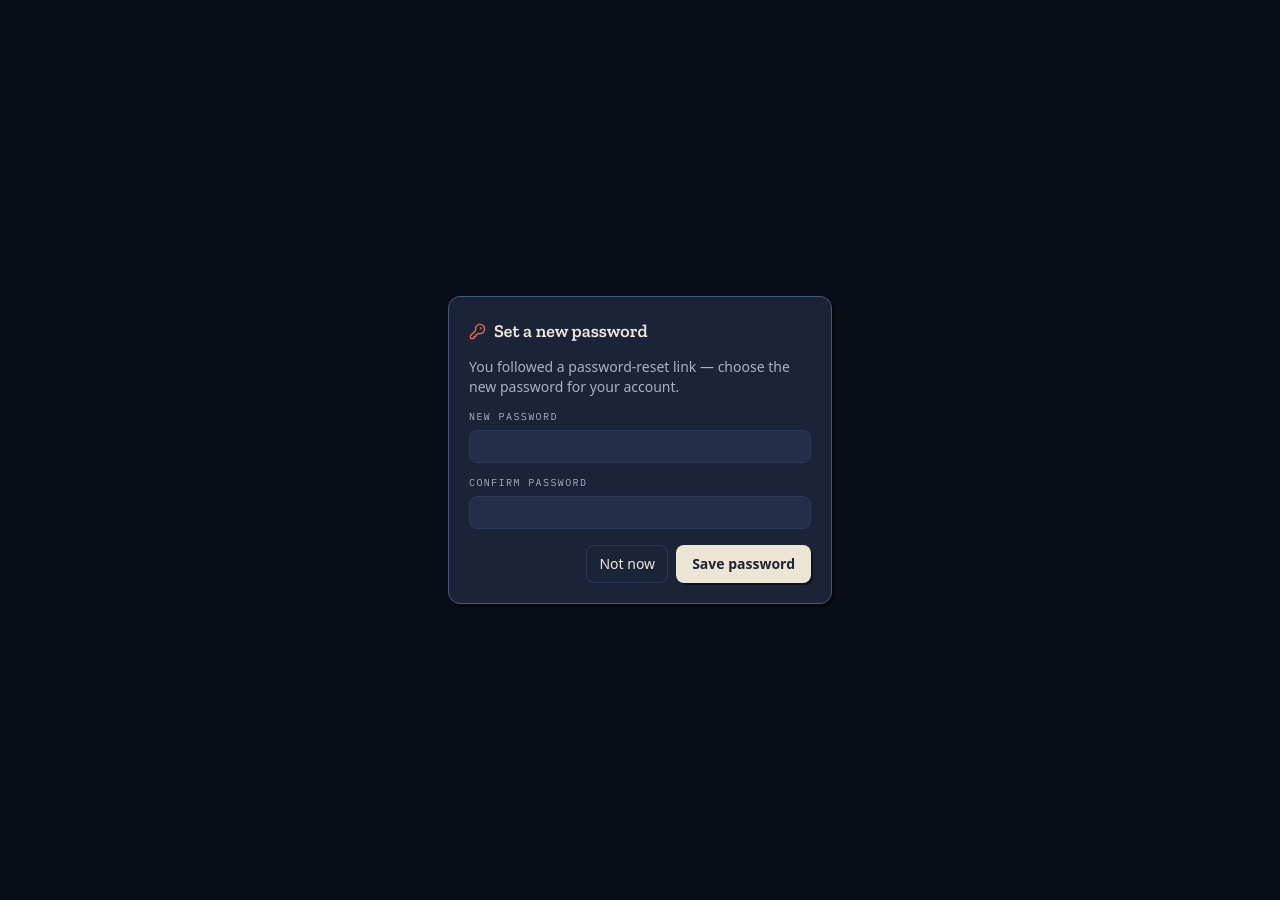
it: PasswordRecoveryModal › rejects mismatched passwords inline
Type "hunter22" into the password field labelled "New password" at {"x": 640, "y": 446}, box [469, 430, 811, 463]
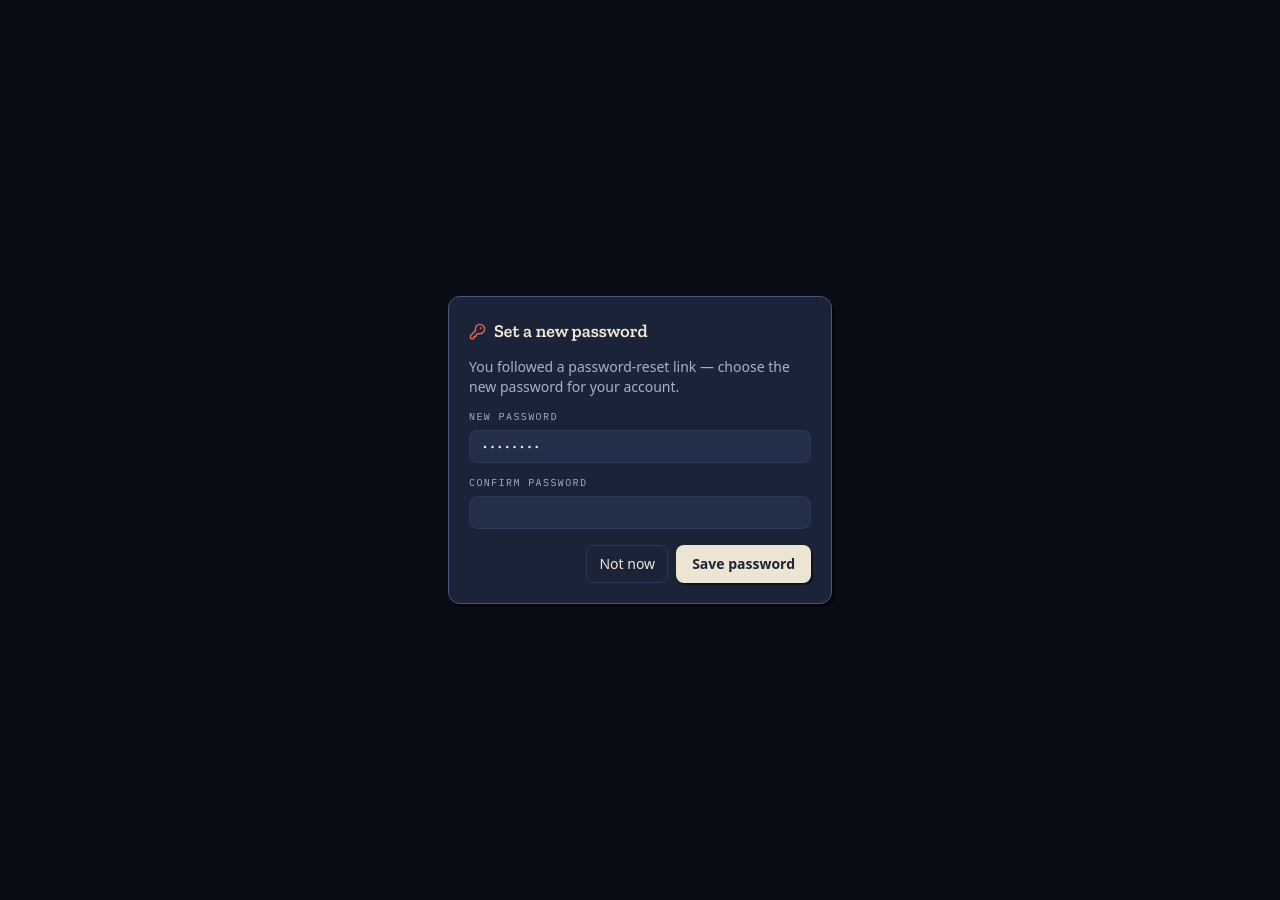
Type "hunter23" into the password field labelled "Confirm password" at {"x": 640, "y": 512}, box [469, 496, 811, 529]
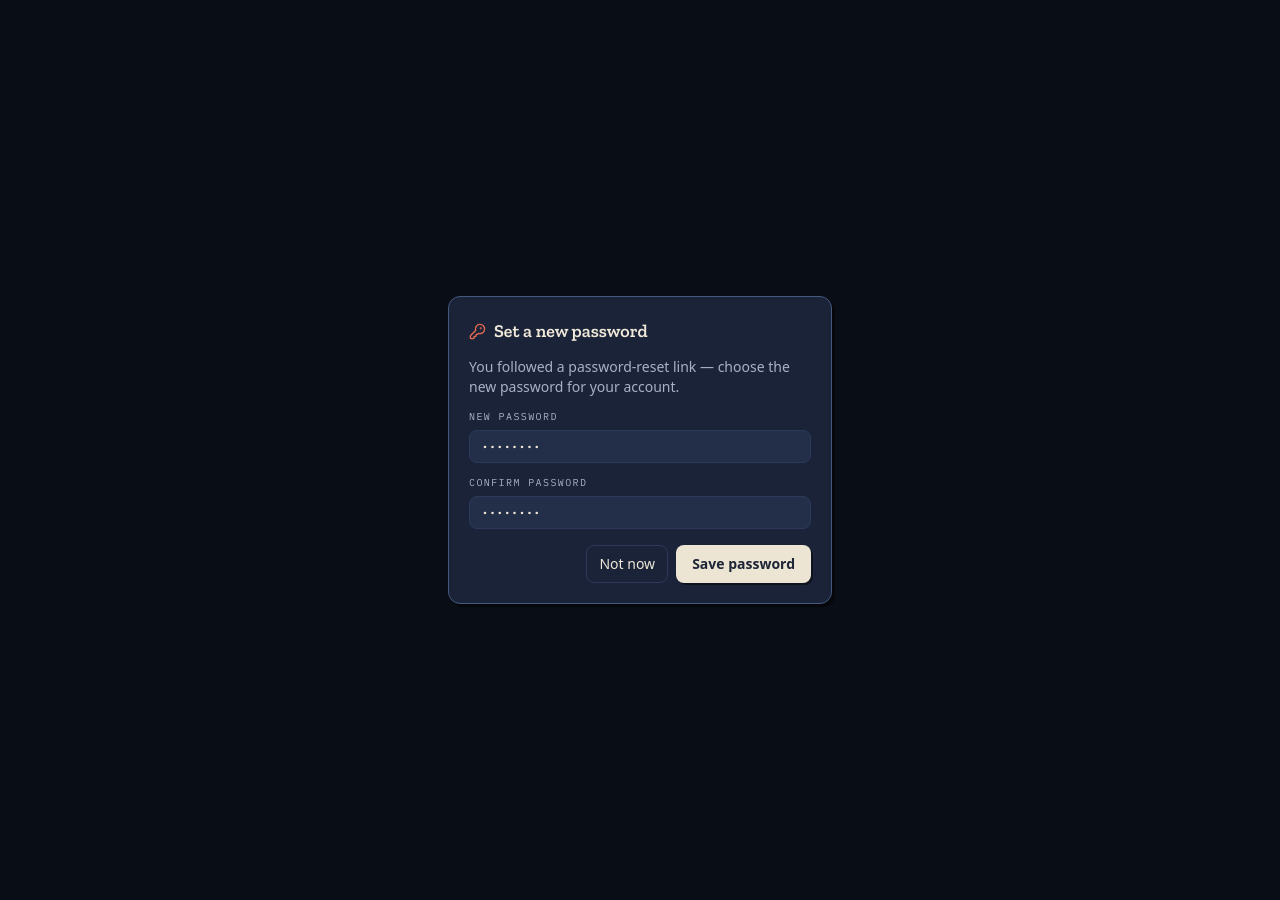
Click the button "Save password" at {"x": 744, "y": 564}, box [676, 545, 811, 583]
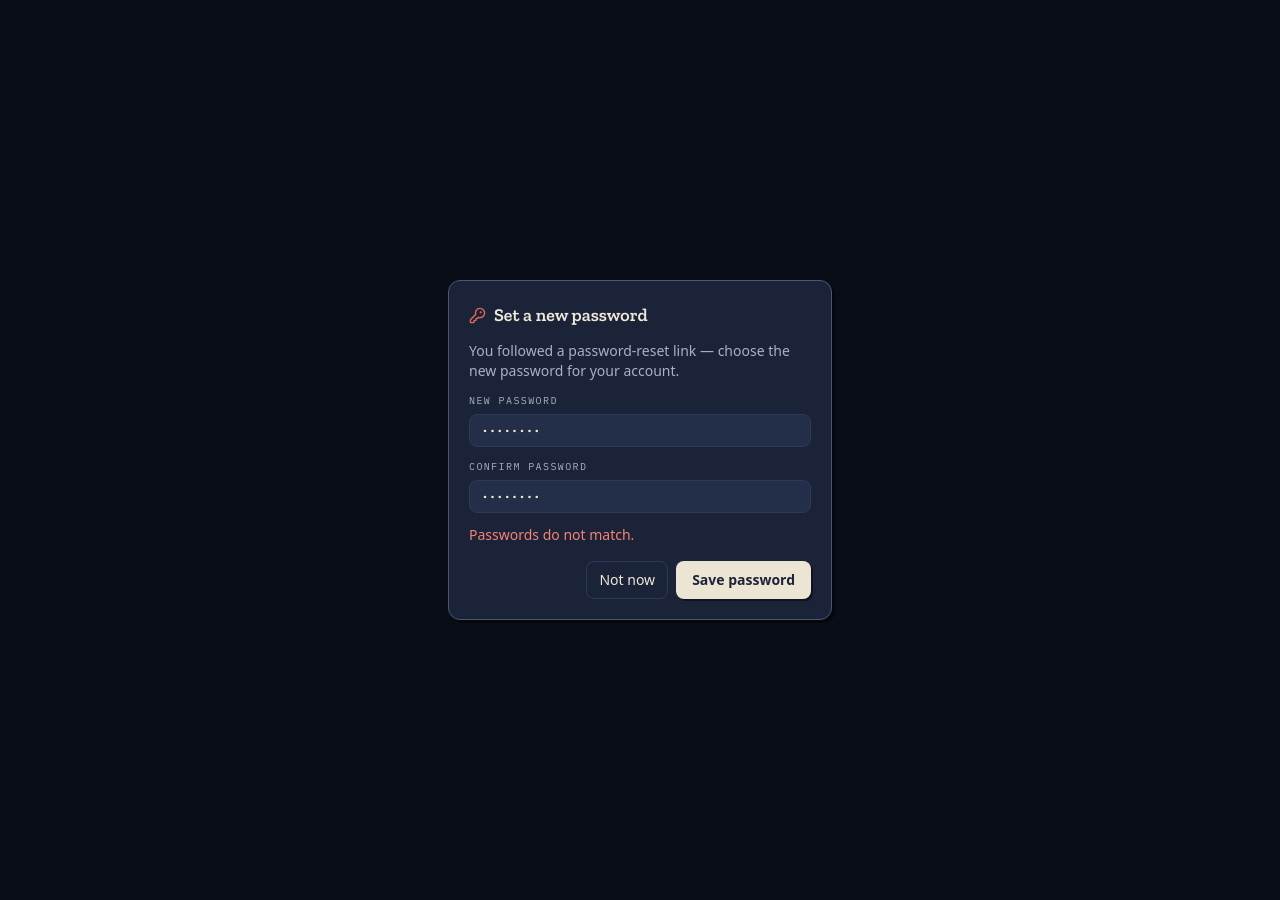
Expected: the text "Passwords do not match." is shown, [469, 525, 634, 544]
